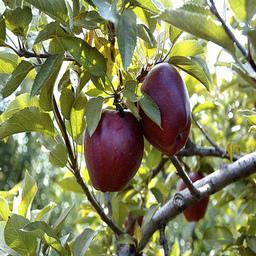apple: (137, 63, 192, 156), (83, 107, 143, 192)
